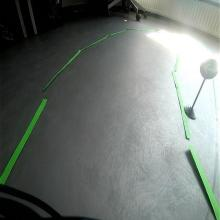left: (199, 58, 218, 80)
